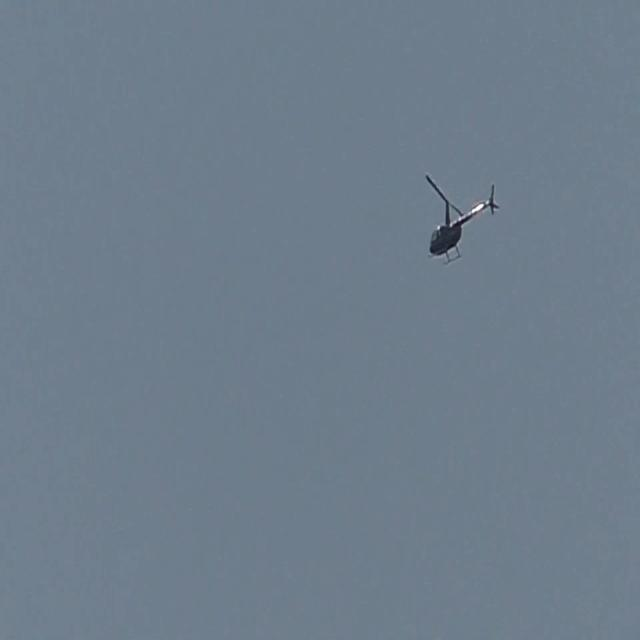CIV_HELO: (427, 181, 501, 266)
